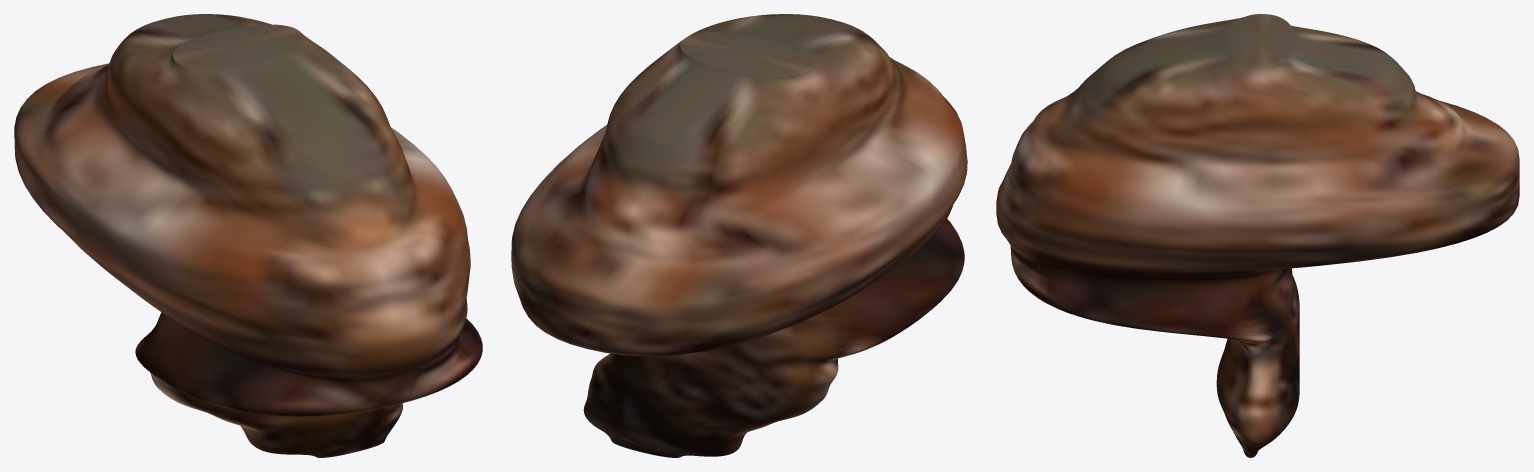
3 views of the same model, side by side, from view 1: azimuth 30°, elevation 25°; view 2: azimuth 150°, elevation 25°; view 3: azimuth 270°, elevation 25° (orthographic). The views are drawn at different scales.
Visible parts, largest first — view 1: hull-X2; view 2: hull-X2; view 3: hull-X2.
Part boxes in pixels (x1,y1,x2,y2): hull-X2: [14, 14, 482, 457]; hull-X2: [511, 14, 967, 457]; hull-X2: [996, 14, 1519, 457].
Size of the model in its own units: 2.06 by 2.6 by 3.4.
